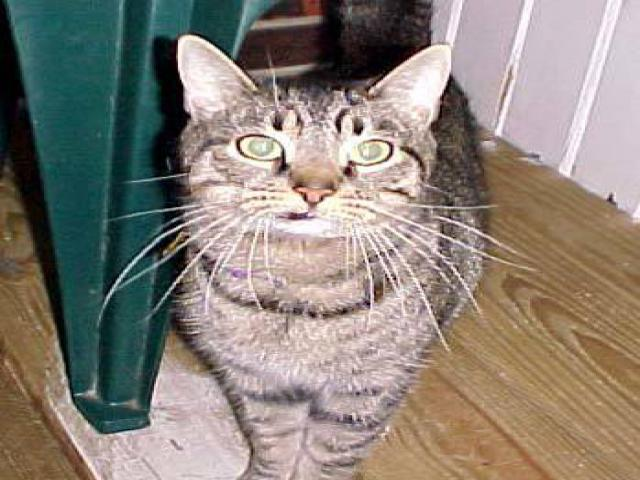cat: (136, 33, 506, 474)
